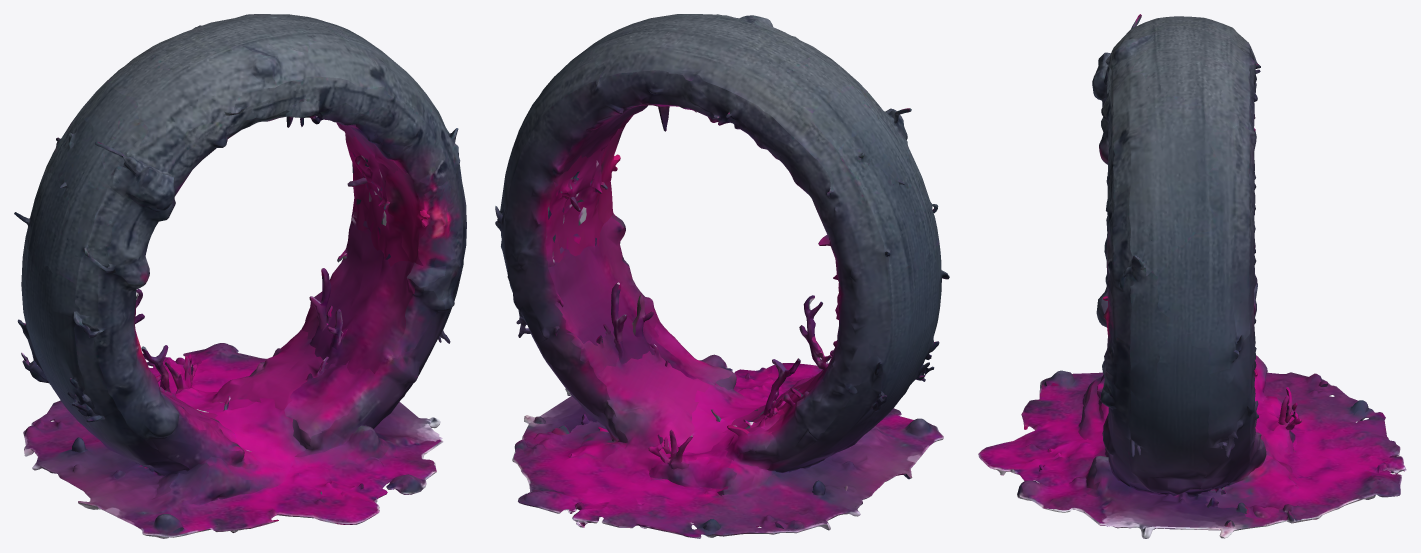
The model's file is broken-ring-generated-2026-05-17T19-10-33-073Z.medium.glb.
3 renders of one model, left to right at view 1: azimuth 30°, elevation 25°; view 2: azimuth 150°, elevation 25°; view 3: azimuth 270°, elevation 25°, orthographic. The views are drawn at different scales.
Parts seen in each view (by area): view 1: temp_mesh.ply; view 2: temp_mesh.ply; view 3: temp_mesh.ply.
Boxes of the visible parts, <box> form: temp_mesh.ply: <box>14,14,466,538</box>; temp_mesh.ply: <box>495,14,949,538</box>; temp_mesh.ply: <box>978,14,1406,538</box>.
Size of the model in its own units: 1.97 by 1.97 by 1.82.
Materials: 1 (1 with a texture image).
